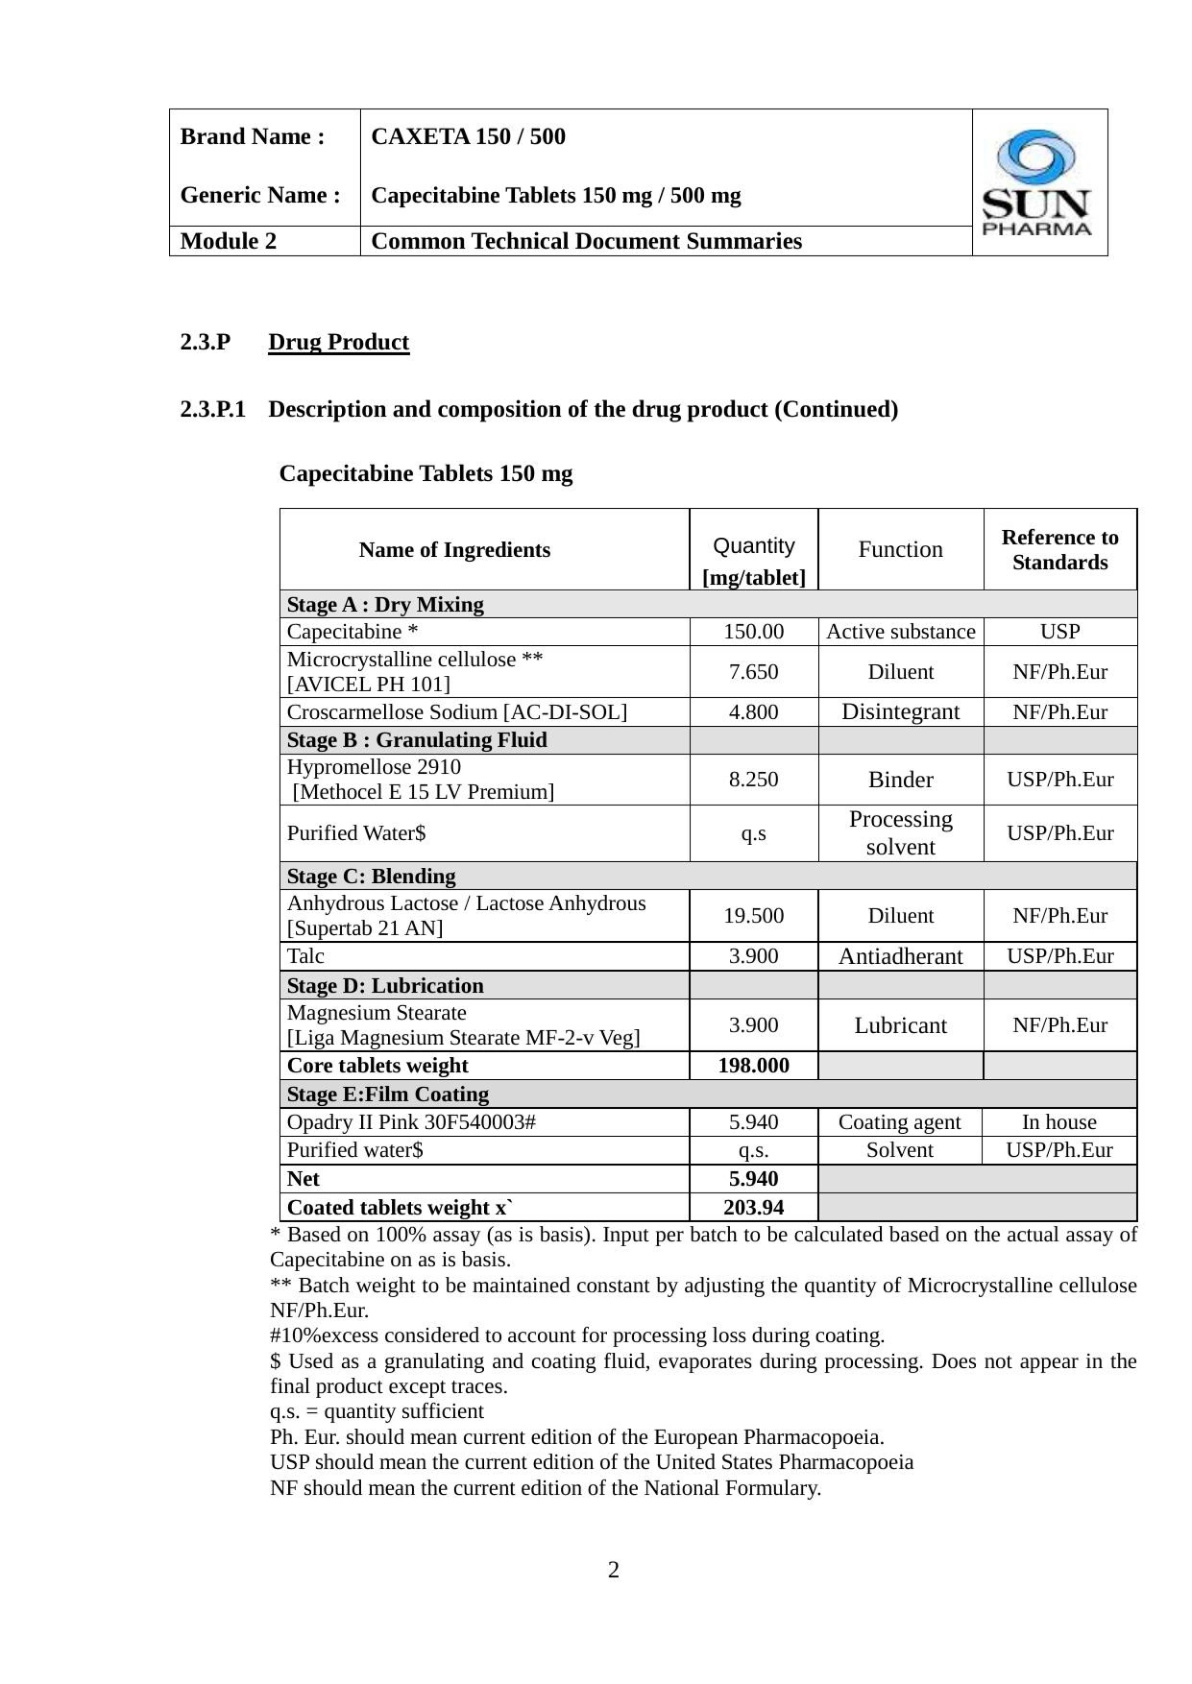merged_cells: (277, 505, 1139, 1222), (168, 107, 1109, 257)
